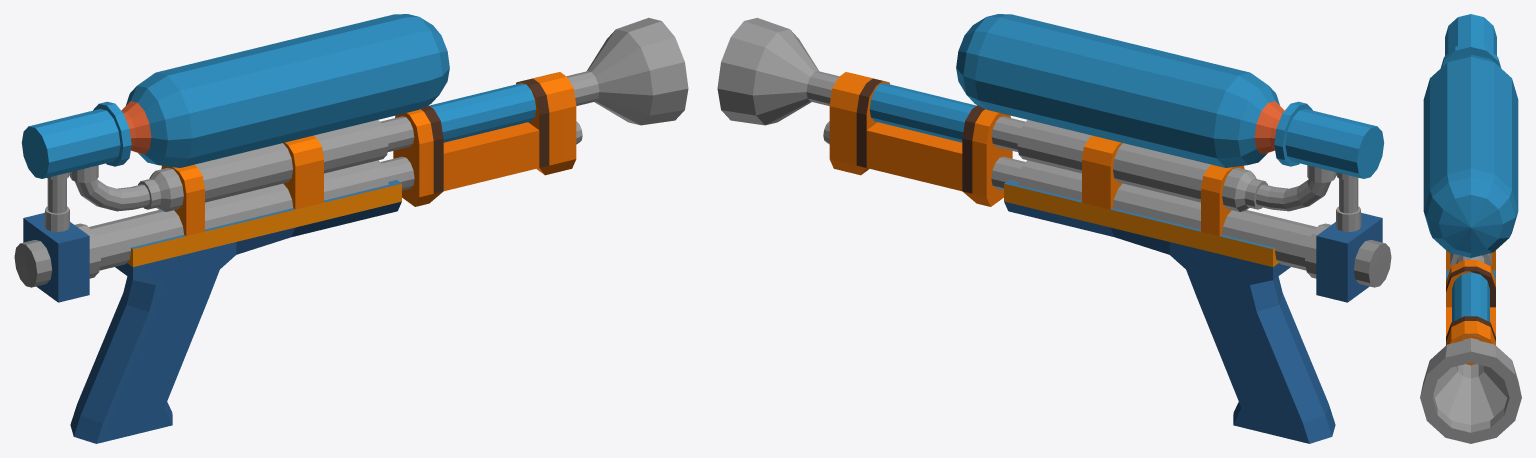
File: RUBBER BOMB (2).fbx
The picture shows the model from 3 angles, left to right: view 1: azimuth 30°, elevation 25°; view 2: azimuth 150°, elevation 25°; view 3: azimuth 270°, elevation 25°; orthographic projection. The views are drawn at different scales.
Visible parts, largest first — view 1: Cylinder.002; view 2: Cylinder.002; view 3: Cylinder.002.
Boxes of the visible parts, box(x1,y1,x2,y2) form: Cylinder.002: box(14, 14, 688, 443); Cylinder.002: box(717, 14, 1391, 443); Cylinder.002: box(1420, 14, 1521, 443).
Size of the model in its own units: 91.27 by 46.35 by 13.19.
1 material, 1 textured.
